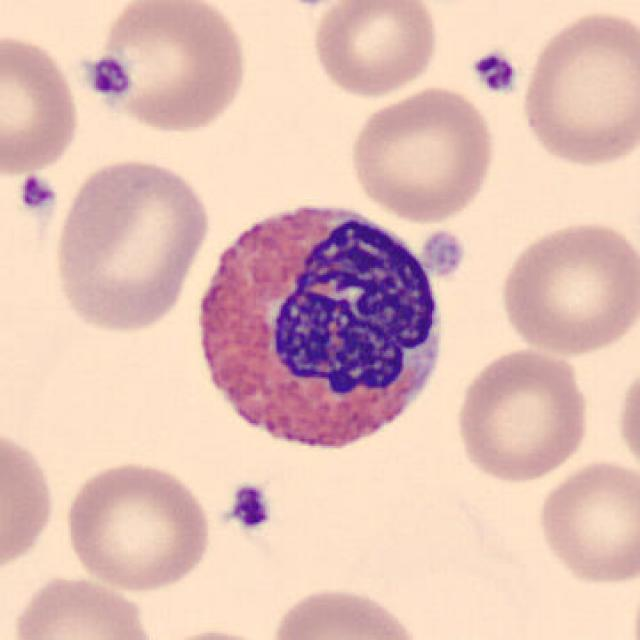Eosinophil: (179, 185, 457, 476)
Platelets: (224, 480, 274, 532), (469, 48, 521, 97), (82, 51, 132, 101), (420, 228, 468, 280), (15, 171, 60, 217), (281, 0, 336, 11)
RBC: (46, 152, 215, 336), (80, 0, 252, 136), (345, 83, 499, 224), (59, 455, 215, 594), (494, 215, 638, 358), (516, 4, 638, 171), (450, 344, 594, 485), (532, 457, 638, 589), (307, 0, 442, 100), (0, 26, 84, 180), (9, 571, 160, 640), (0, 422, 59, 586), (265, 582, 428, 640), (613, 356, 640, 483), (143, 624, 284, 640)
